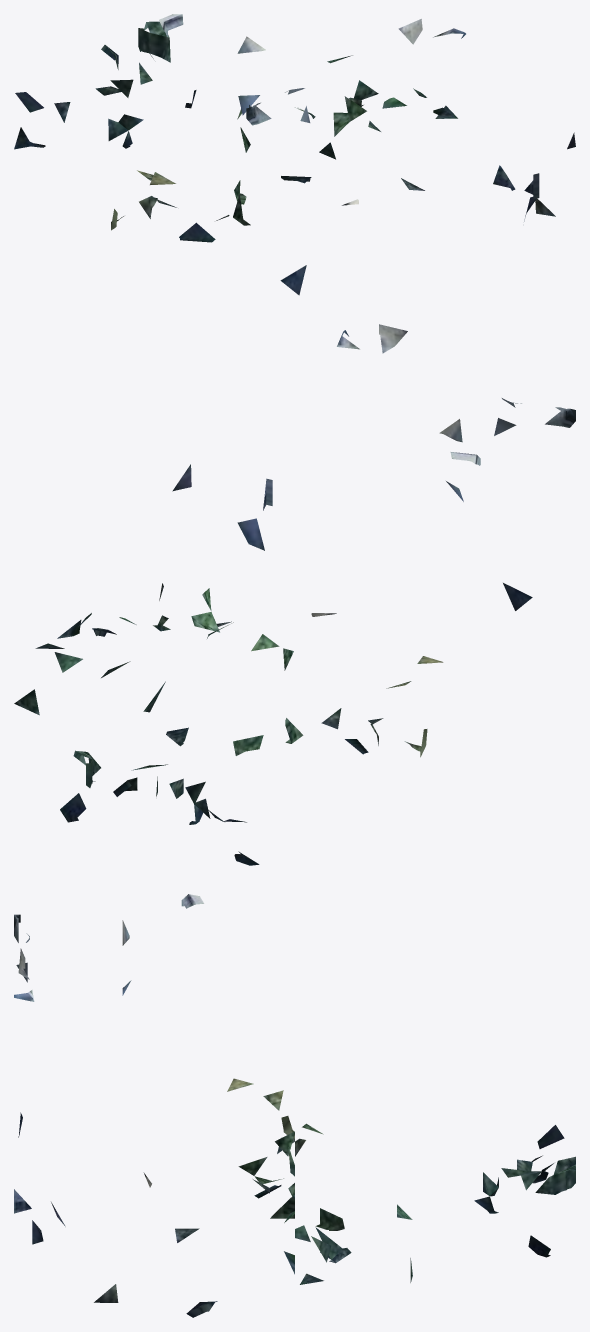
3 renders of one model, top to bottom at view 1: azimuth 30°, elevation 25°; view 2: azimuth 150°, elevation 25°; view 3: azimuth 270°, elevation 25°, orthographic. The views are drawn at different scales.
Visible parts, largest first — view 1: 30436272704370417604_1; view 2: 30436272704370417604_1; view 3: 30436272704370417604_1.
Boxes of the visible parts, left/top/right/bottom form: 30436272704370417604_1: left=14, top=14, right=575, bottom=295; 30436272704370417604_1: left=14, top=324, right=575, bottom=865; 30436272704370417604_1: left=14, top=894, right=575, bottom=1317.
Size of the model in its own units: 27.77 by 21.27 by 38.26.
1 material, 1 textured.
